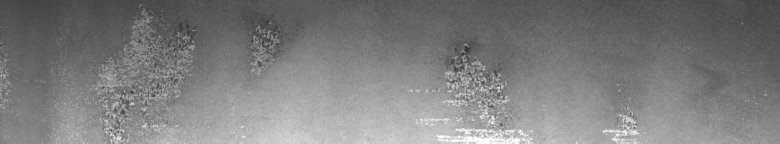hc: (408, 43, 532, 136)
